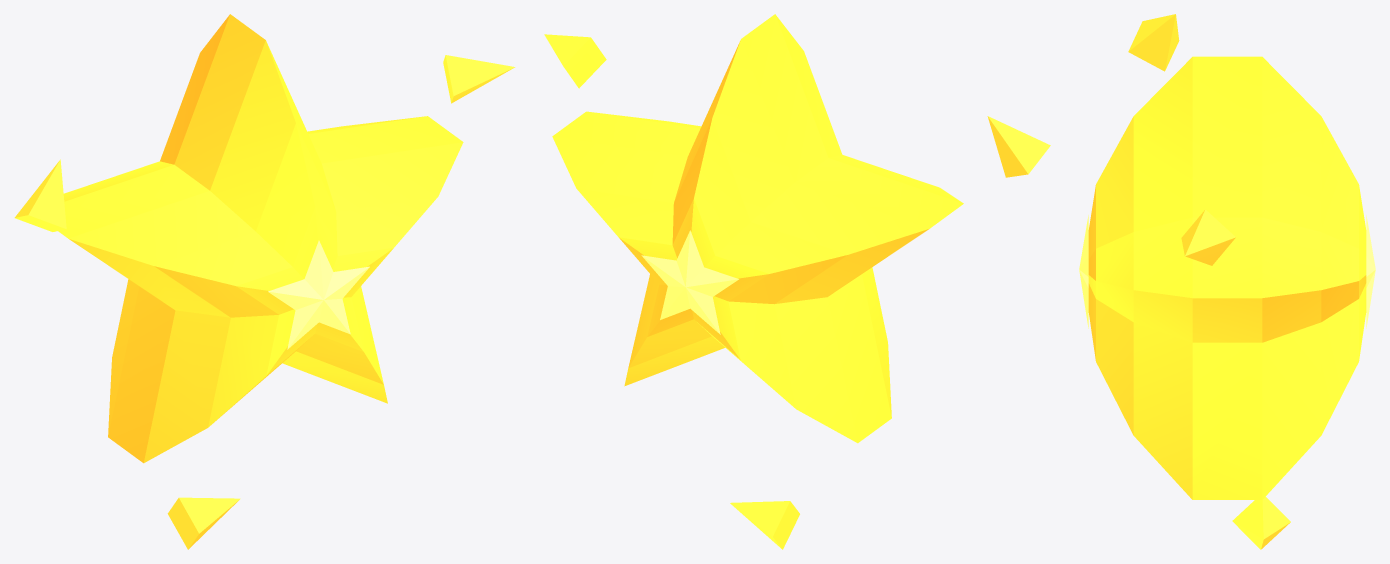
The model's file is fallen-star.glb.
3 renders of one model, left to right at view 1: azimuth 30°, elevation 25°; view 2: azimuth 150°, elevation 25°; view 3: azimuth 270°, elevation 25°, orthographic. The views are drawn at different scales.
Visible parts, largest first — view 1: Fallen star Lamp star, Fallen star Star core; view 2: Fallen star Lamp star, Fallen star Star core; view 3: Fallen star Lamp star, Fallen star Star core.
Boxes of the visible parts, bbox=[...] form: Fallen star Lamp star: bbox=[14, 14, 515, 549]; Fallen star Star core: bbox=[268, 240, 369, 349]; Fallen star Lamp star: bbox=[544, 14, 1050, 549]; Fallen star Star core: bbox=[641, 230, 738, 334]; Fallen star Lamp star: bbox=[1088, 14, 1366, 549]; Fallen star Star core: bbox=[1079, 215, 1375, 328].
Size of the model in its own units: 0.4284 by 0.4223 by 0.221.
